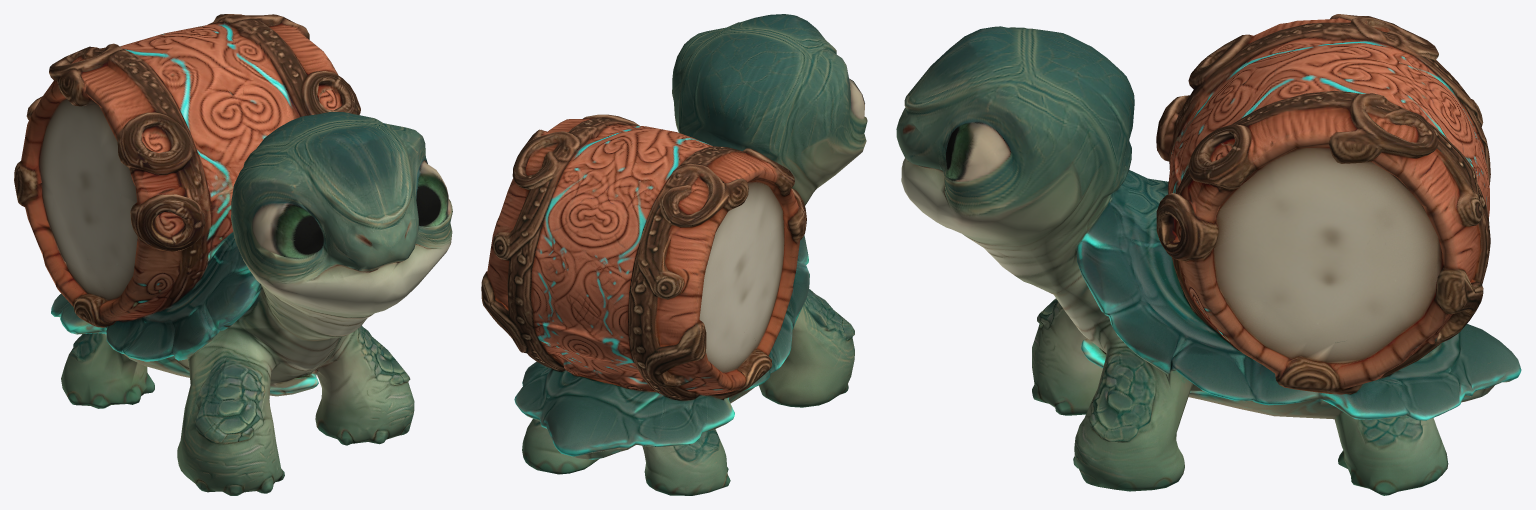
3 views of the same model, side by side, from view 1: azimuth 30°, elevation 25°; view 2: azimuth 150°, elevation 25°; view 3: azimuth 270°, elevation 25° (orthographic). The views are drawn at different scales.
Parts seen in each view (by area): view 1: Mesh_0; view 2: Mesh_0; view 3: Mesh_0.
Boxes of the visible parts, box(x1,y1,x2,y2) form: Mesh_0: box(14, 14, 452, 495); Mesh_0: box(481, 14, 867, 495); Mesh_0: box(896, 14, 1521, 495).
Bounding box in the file's own units: 0.9381 × 1.36 × 1.9.
Materials: 1 (1 with a texture image).
